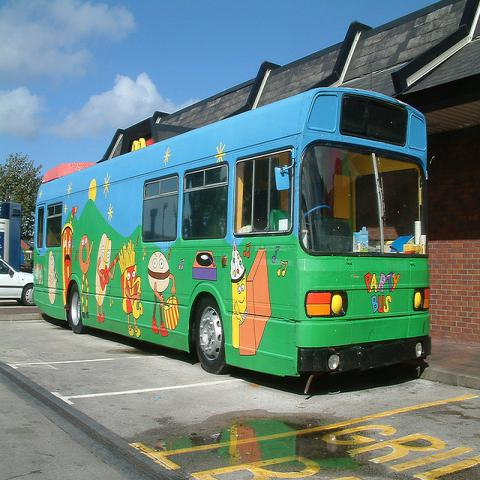bus: (31, 92, 434, 376)
car: (0, 255, 36, 307)
